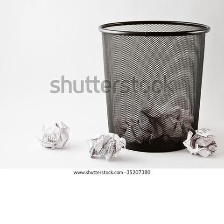book: (110, 98, 196, 146), (30, 112, 76, 153), (81, 129, 132, 161), (183, 125, 218, 158)
